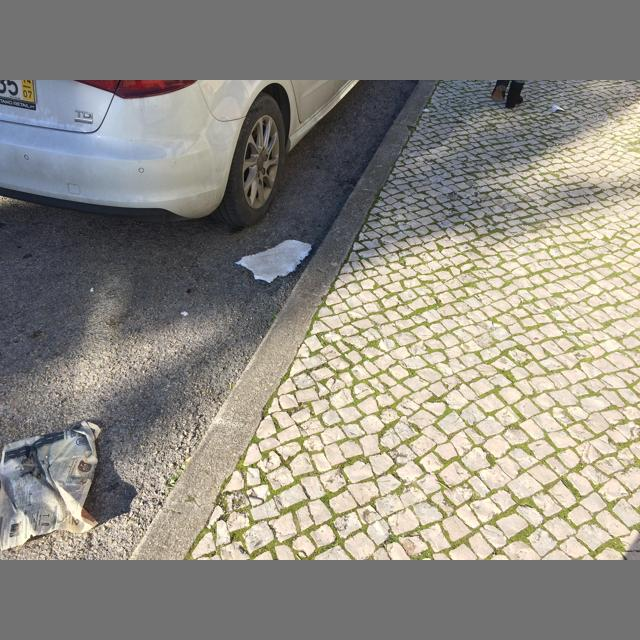litter: (0, 421, 101, 551), (235, 240, 312, 283), (552, 105, 566, 112), (180, 311, 188, 315)
